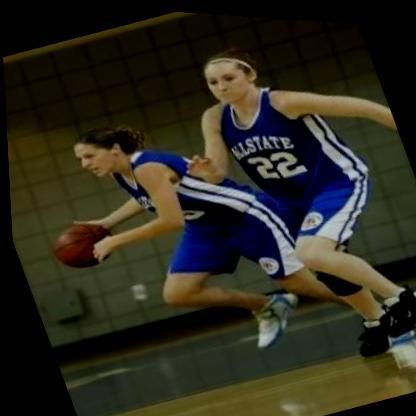basketball: (41, 209, 117, 280)
